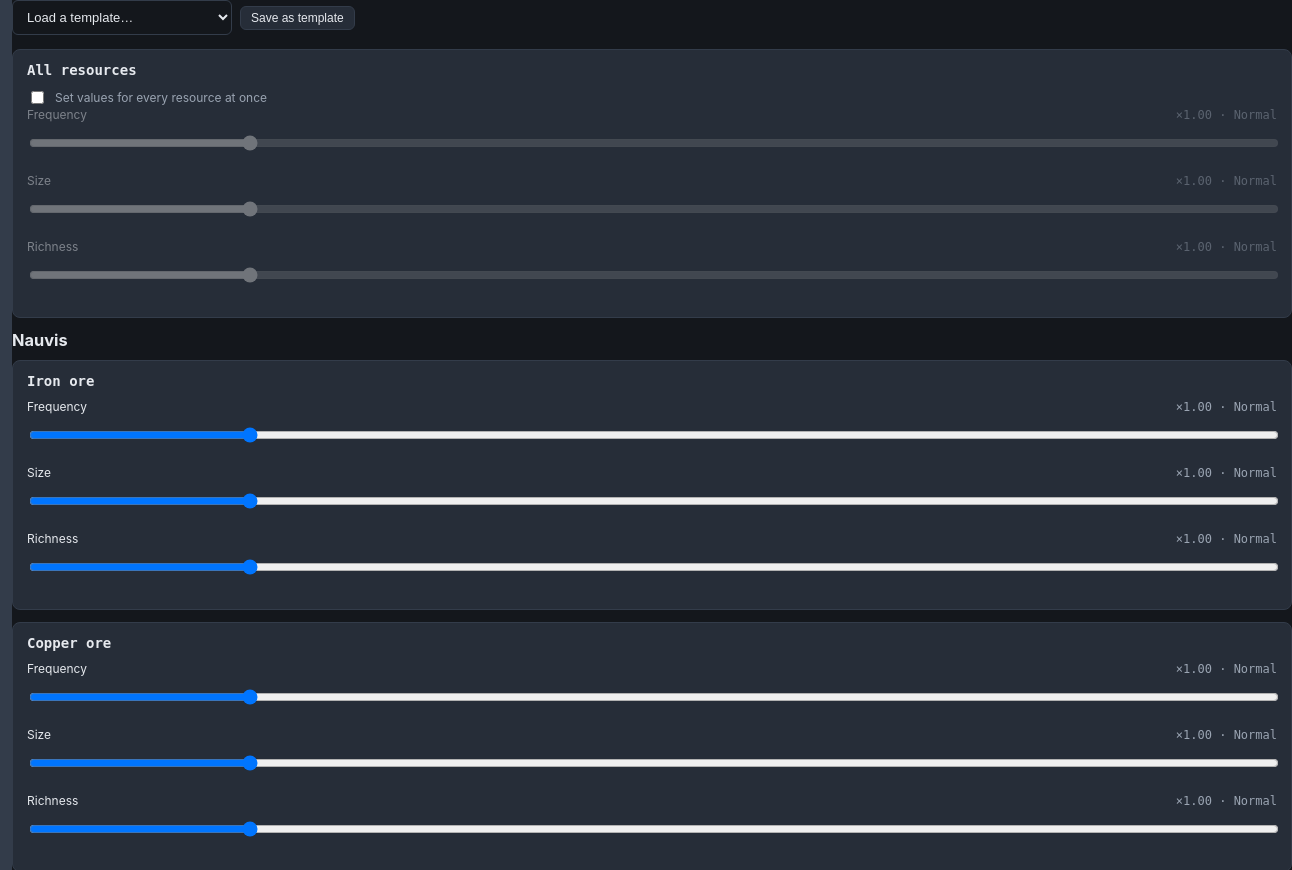
Test case: world generation template picker › loading a template applies its settings
This screenshot has width=1292, height=870.
Select "Peaceful" in the dropdown named "World generation template" at (122, 18), box [12,0,232,35]
(page scrolled)
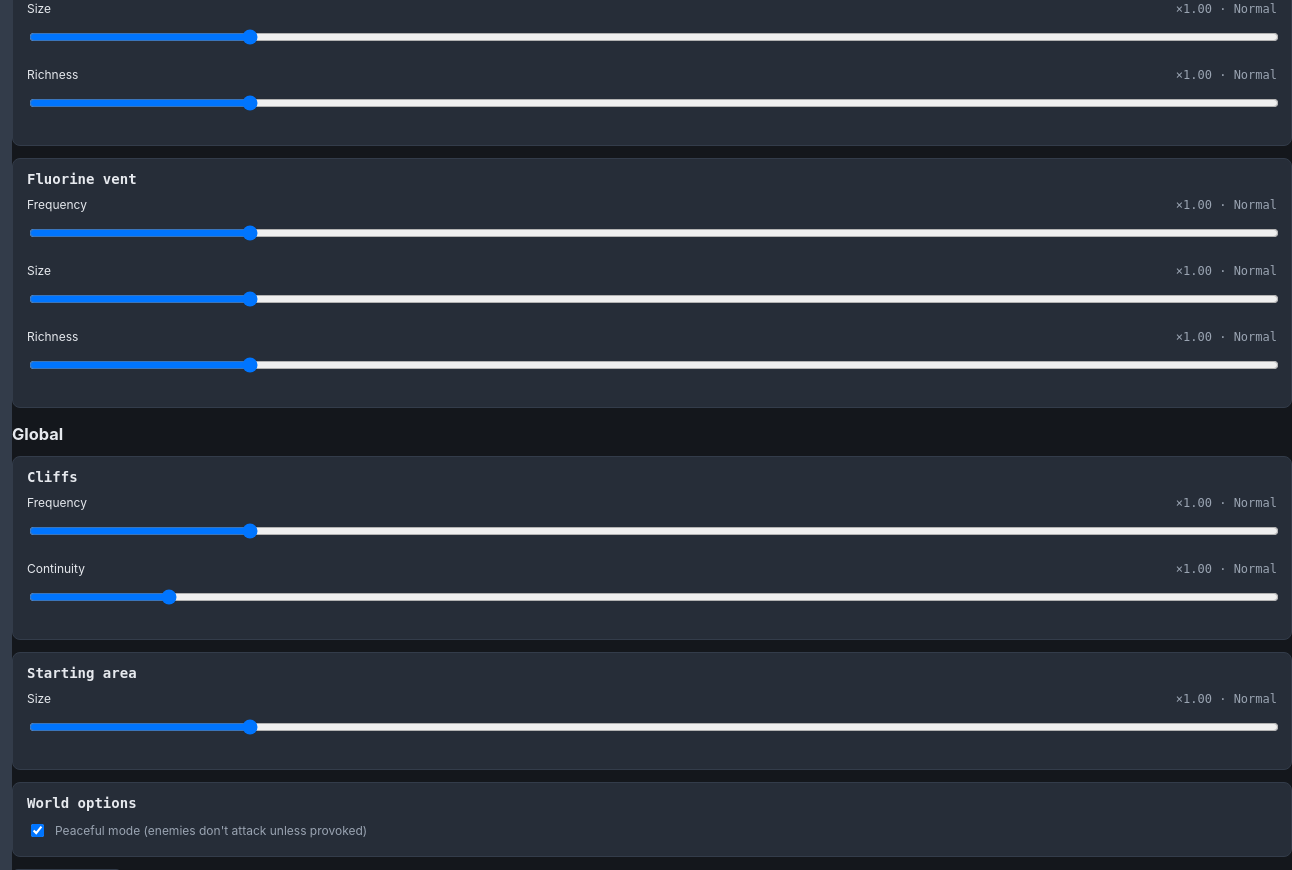
Expected: the checkbox labelled "Peaceful mode (enemies don't attack unless provoked)" is checked, [31,824,44,837]
